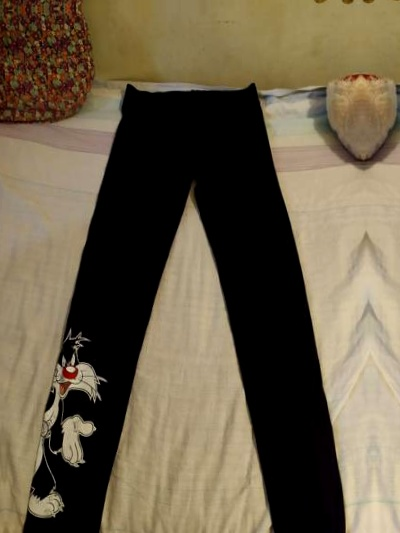Pants: (0, 46, 356, 533), (382, 33, 400, 533)
